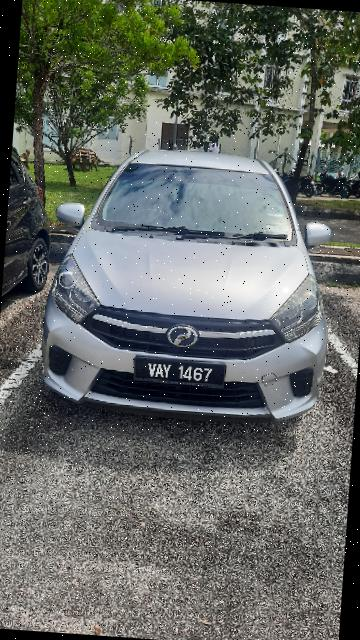License_Plate: (133, 348, 233, 396)
car: (20, 132, 349, 437)
